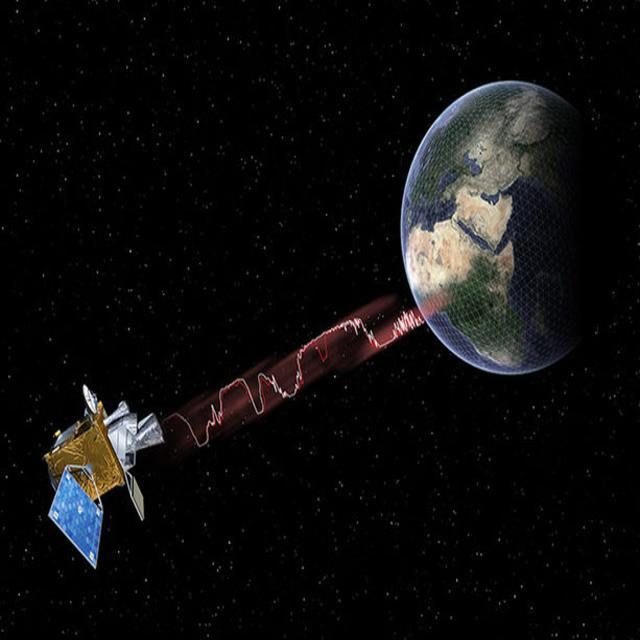sat: (41, 384, 168, 570)
